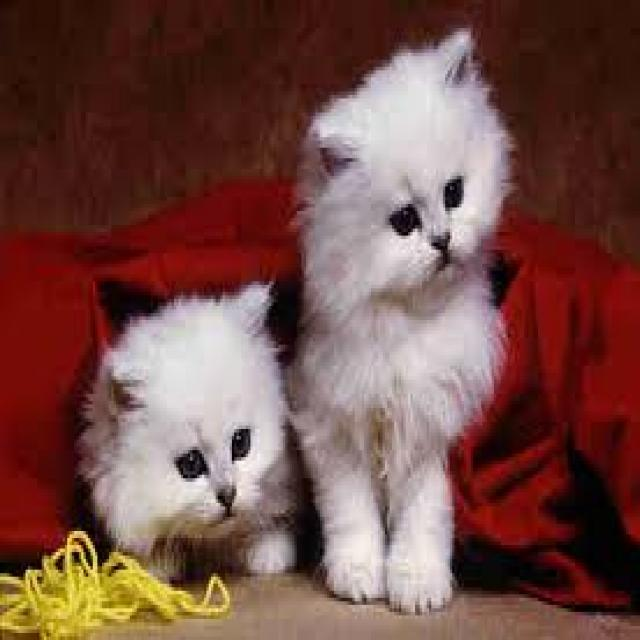Cat: (296, 25, 522, 621), (81, 271, 298, 597)
